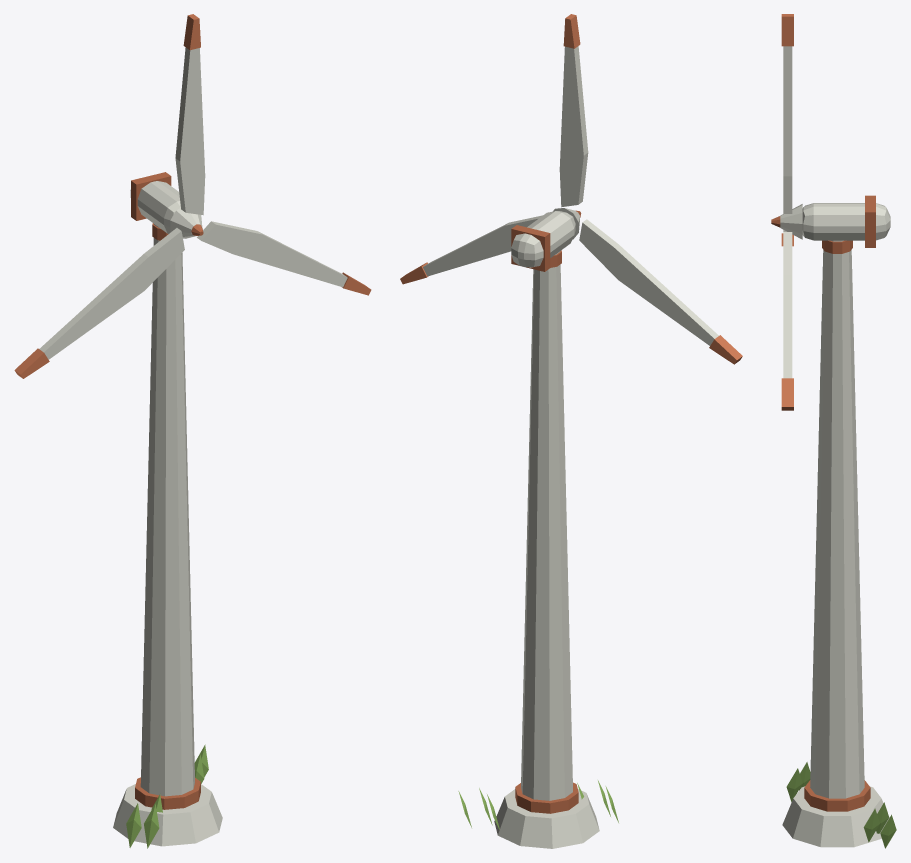
Rendered from wind_turbine.glb.
3 views of the same model, side by side, from view 1: azimuth 30°, elevation 25°; view 2: azimuth 150°, elevation 25°; view 3: azimuth 270°, elevation 25° (orthographic). The views are drawn at different scales.
Parts seen in each view (by area): view 1: Turbine_slim_tower, move_spin_rotor, Turbine_ceramic_foot, Turbine_nacelle, Turbine_copper_foot_band, Turbine_nacelle_band; view 2: Turbine_slim_tower, move_spin_rotor, Turbine_ceramic_foot, Turbine_nacelle, Turbine_copper_foot_band, Turbine_nacelle_band; view 3: Turbine_slim_tower, move_spin_rotor, Turbine_ceramic_foot, Turbine_nacelle, Turbine_copper_foot_band, Turbine_nacelle_band, Turbine_copper_collar, decor_Grass.004, decor_Grass.005, decor_Grass.002.
Boxes of the visible parts, bbox=[...] form: Turbine_slim_tower: bbox=[140, 224, 194, 796]; move_spin_rotor: bbox=[14, 14, 371, 378]; Turbine_ceramic_foot: bbox=[113, 784, 222, 846]; Turbine_nacelle: bbox=[130, 181, 180, 233]; Turbine_copper_foot_band: bbox=[135, 777, 200, 809]; Turbine_nacelle_band: bbox=[131, 172, 171, 220]; Turbine_slim_tower: bbox=[521, 251, 572, 800]; move_spin_rotor: bbox=[400, 14, 742, 364]; Turbine_ceramic_foot: bbox=[494, 789, 599, 848]; Turbine_nacelle: bbox=[511, 211, 575, 267]; Turbine_copper_foot_band: bbox=[515, 782, 578, 813]; Turbine_nacelle_band: bbox=[511, 225, 550, 271]; Turbine_slim_tower: bbox=[810, 240, 864, 798]; move_spin_rotor: bbox=[771, 14, 802, 410]; Turbine_ceramic_foot: bbox=[782, 786, 889, 847]; Turbine_nacelle: bbox=[802, 203, 890, 240]; Turbine_copper_foot_band: bbox=[804, 780, 870, 811]; Turbine_nacelle_band: bbox=[865, 195, 875, 247]; Turbine_copper_collar: bbox=[822, 240, 852, 253]; decor_Grass.004: bbox=[880, 814, 896, 848]; decor_Grass.005: bbox=[863, 808, 879, 842]; decor_Grass.002: bbox=[786, 768, 802, 801].
Bounding box in the file's own units: 2.17 × 4.86 × 0.6822.
